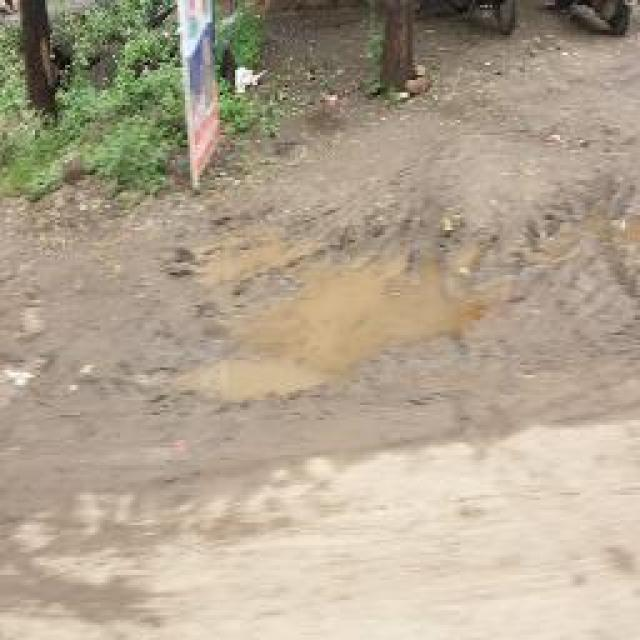stagnation: (166, 208, 512, 428)
